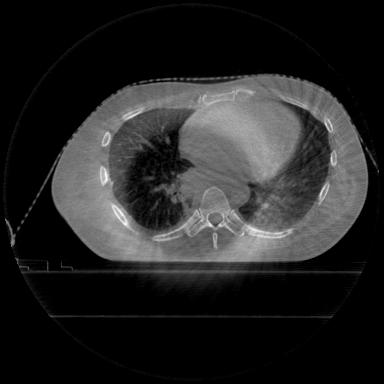body: (51, 73, 368, 260)
cord: (184, 187, 247, 237)
paru kanan: (106, 105, 192, 234)
paru kiri: (240, 98, 330, 229)
